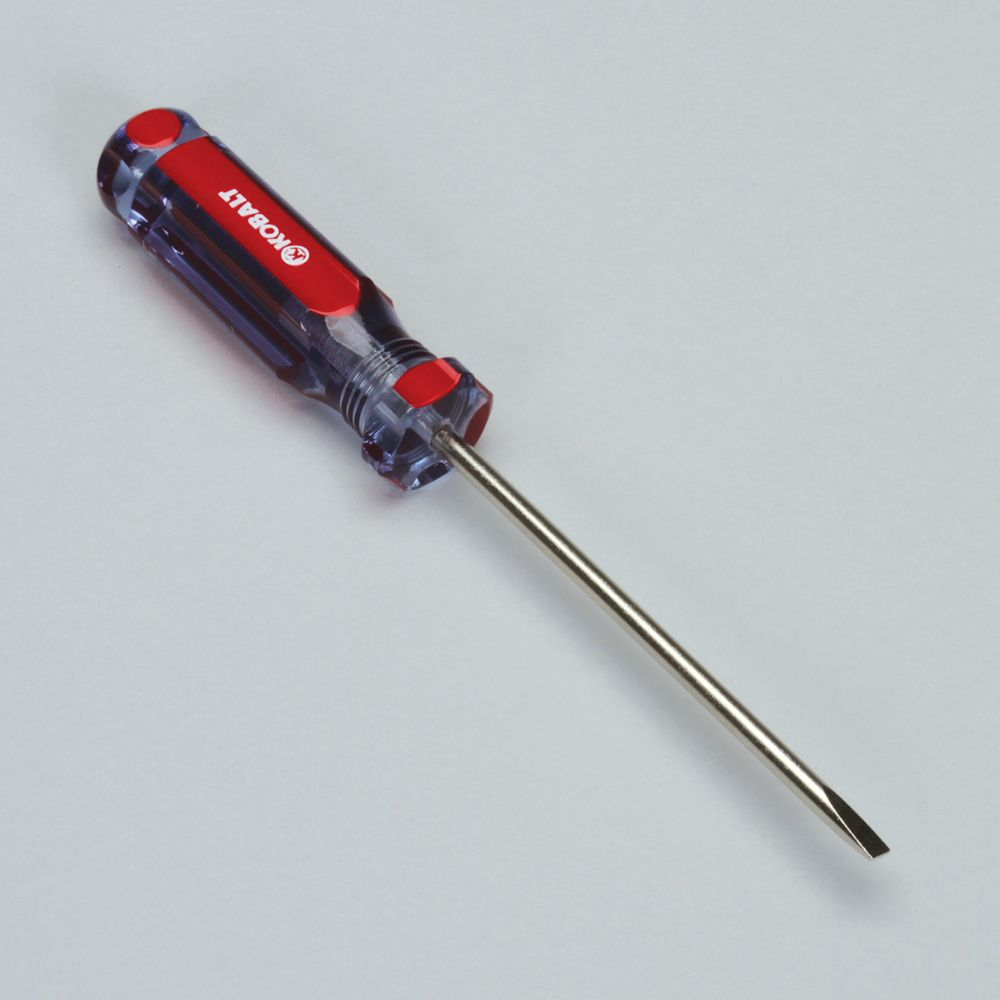screwdriver: (97, 111, 893, 865)
